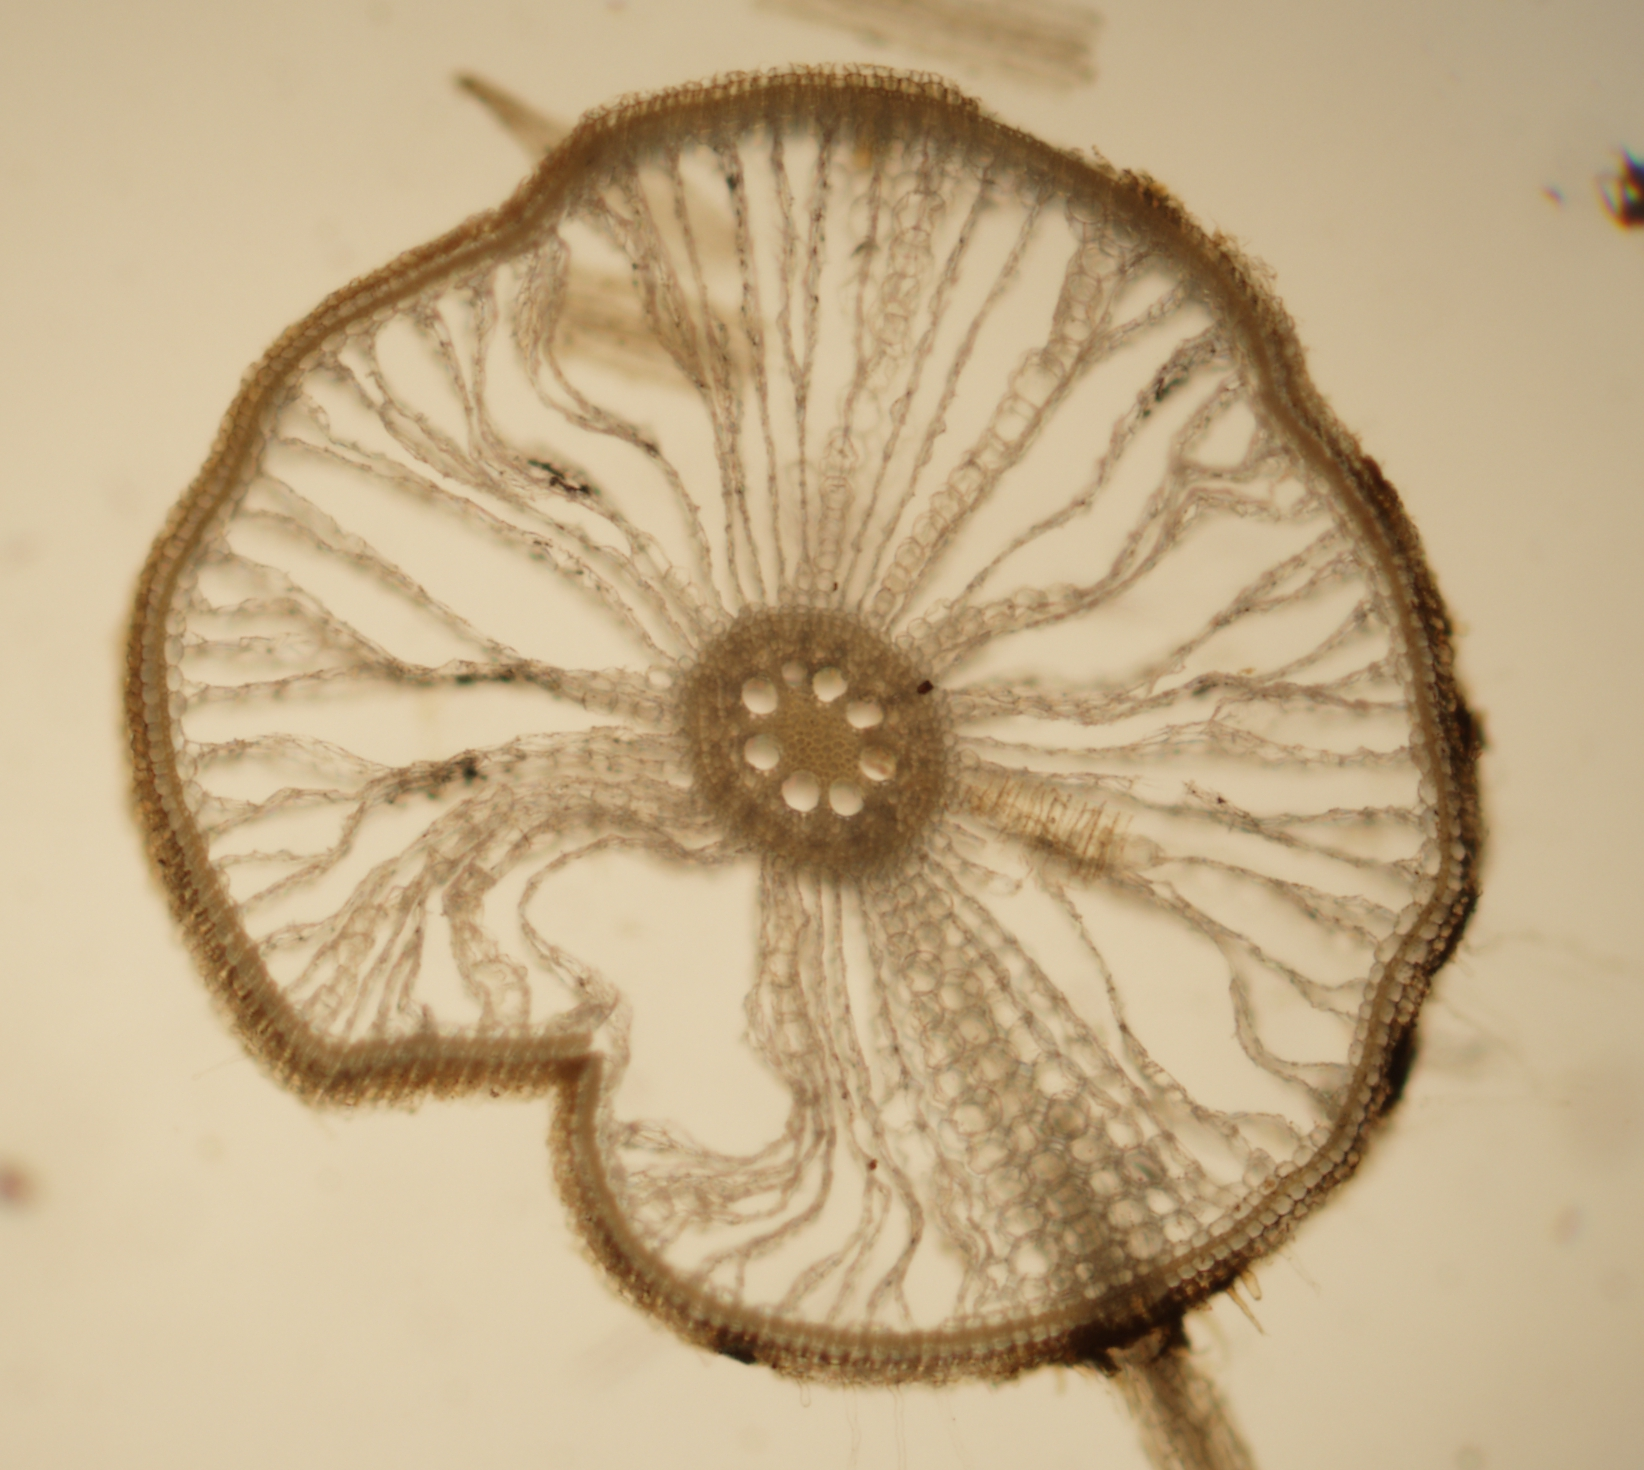lm: (782, 769, 823, 812), (828, 778, 867, 816), (860, 744, 899, 780), (740, 675, 777, 714), (811, 665, 848, 702), (745, 734, 780, 770), (845, 697, 884, 728), (780, 658, 809, 688)
